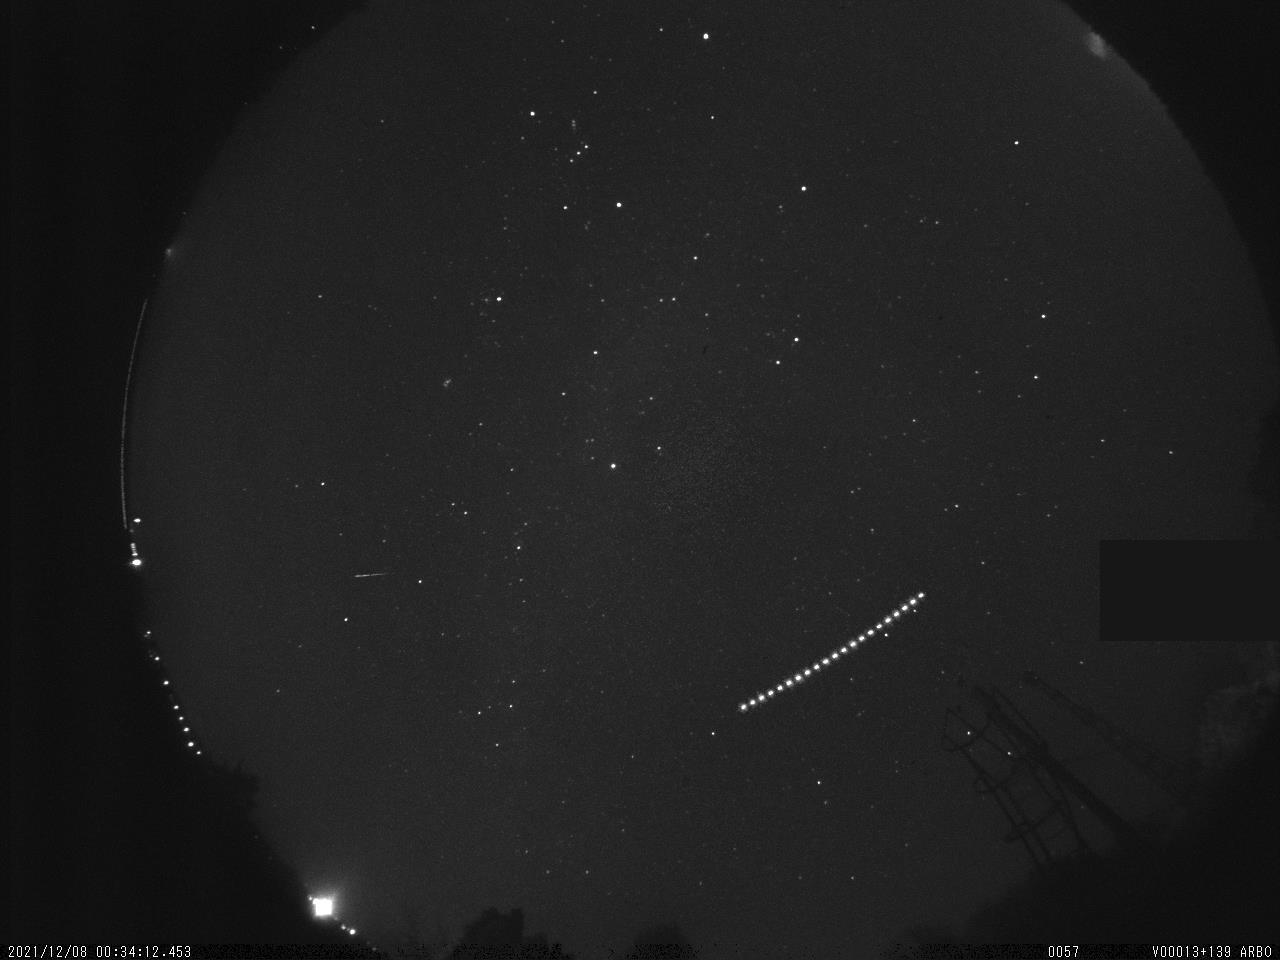meteor: (346, 559, 404, 587)
satelite: (731, 581, 932, 719)
